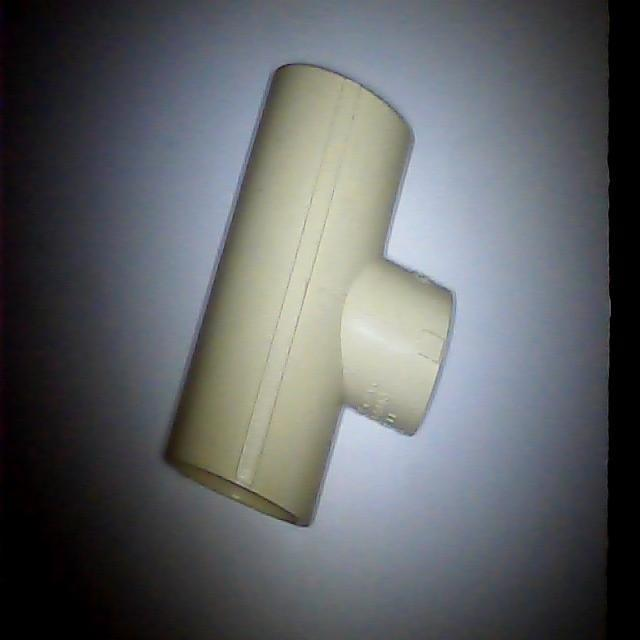T Joint: (161, 63, 456, 530)
